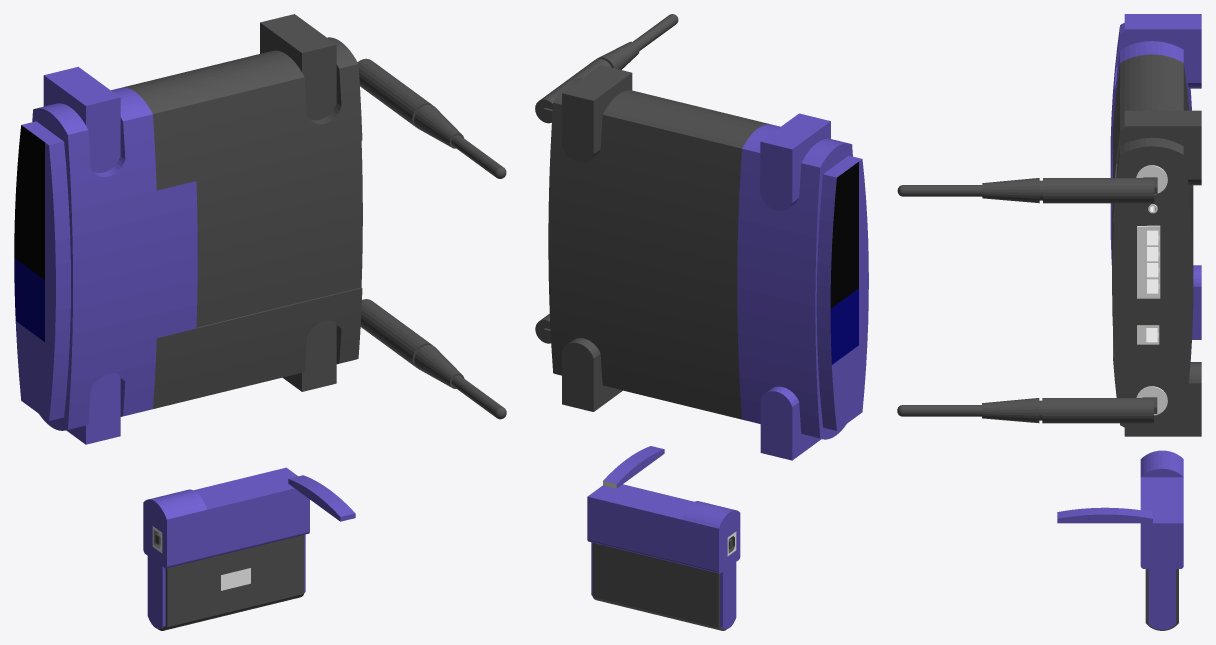
The picture shows the model from 3 angles, left to right: view 1: azimuth 30°, elevation 25°; view 2: azimuth 150°, elevation 25°; view 3: azimuth 270°, elevation 25°; orthographic projection. The views are drawn at different scales.
Parts seen in each view (by area): view 1: router; view 2: router; view 3: router.
Part boxes in pixels (left/top/right/bottom): router: left=14, top=14, right=506, bottom=630; router: left=535, top=14, right=868, bottom=630; router: left=897, top=14, right=1201, bottom=630.
Size of the model in its own units: 8.93 by 14.02 by 7.52.
